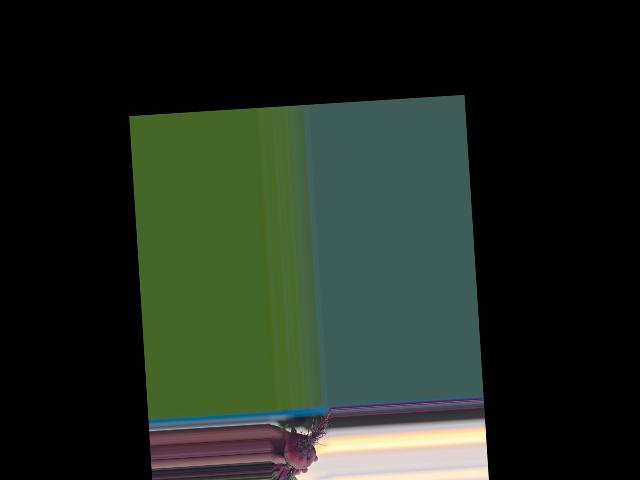beet: (268, 408, 337, 480)
